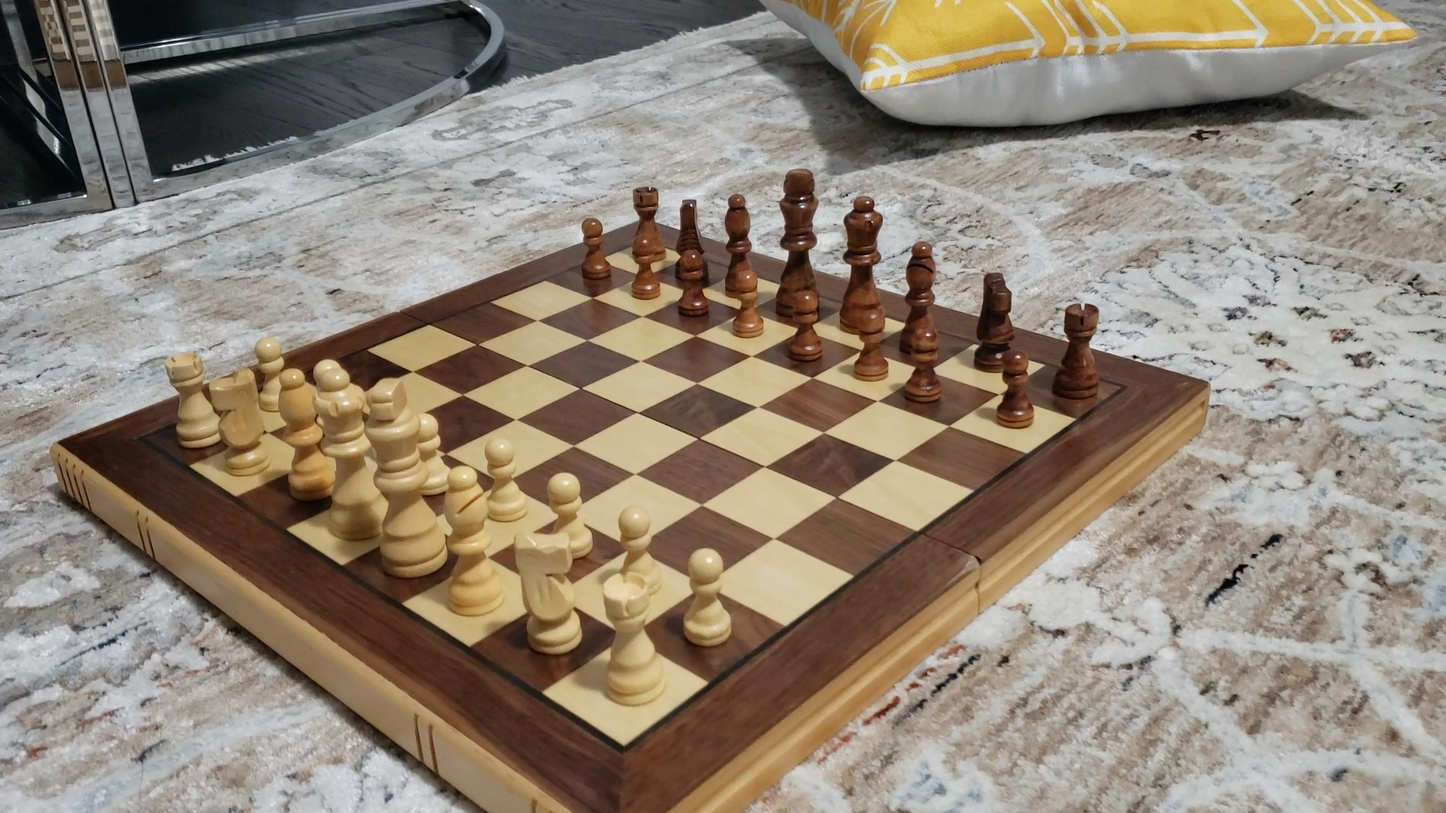black-bishop: (901, 238, 938, 356), (722, 190, 754, 297)
black-king: (776, 164, 820, 317)
black-knight: (973, 269, 1016, 369), (673, 195, 707, 286)
black-pawn: (903, 326, 943, 404), (995, 351, 1034, 430), (785, 284, 823, 365), (850, 307, 888, 382), (627, 227, 662, 308), (731, 266, 764, 340), (578, 214, 612, 283), (676, 247, 709, 318)
black-queen: (836, 190, 888, 335)
black-rook: (1055, 300, 1102, 403), (627, 182, 671, 266)
white-bishop: (437, 463, 508, 622), (276, 367, 332, 504)
white-king: (352, 367, 455, 575)
white-knight: (510, 532, 587, 658), (204, 361, 270, 479)
white-pawn: (678, 543, 739, 652), (614, 501, 664, 602), (543, 469, 595, 564), (481, 434, 533, 524), (249, 333, 290, 416)
white-queen: (300, 355, 389, 547)
white-rook: (596, 572, 672, 712), (162, 349, 225, 451)
